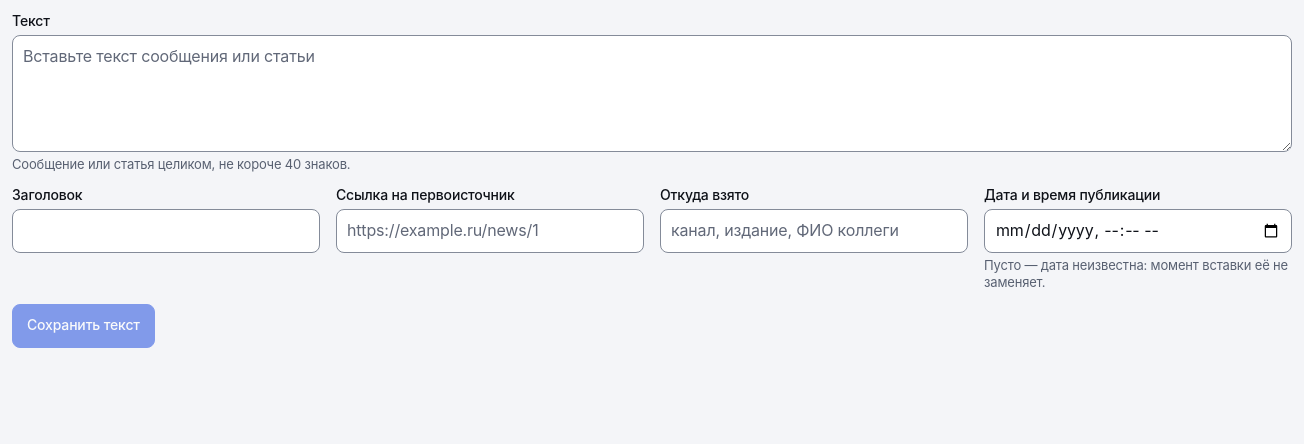
Scenario: Ручная вставка текста › короткий текст не сохранён — сказано словами
Type "Заказчик объявил конкурс на строительство корпуса 3 жилого комплекса «Пример»." into the text box with placeholder "Вставьте текст сообщения или статьи" at (652, 94), box [12,35,1292,152]
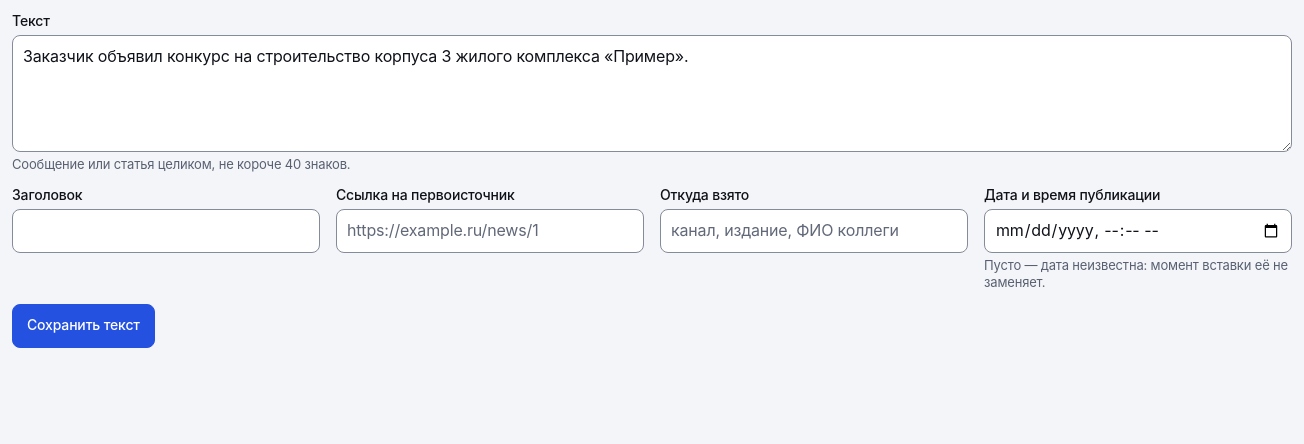
Click the button "Сохранить текст" at (83, 326), box [12,304,155,348]
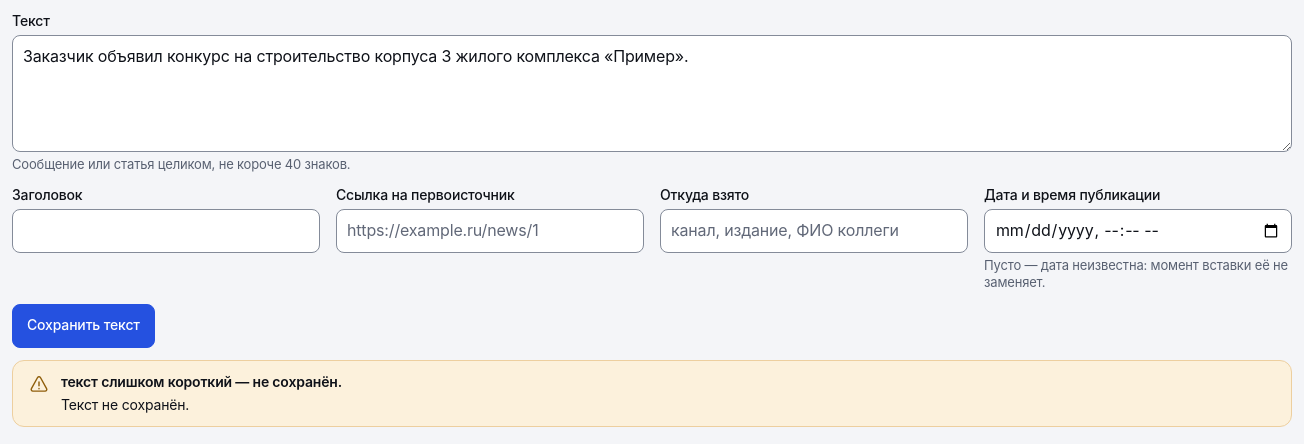
expect the text "Текст не сохранён." is shown: met, box [61,396,189,412]
